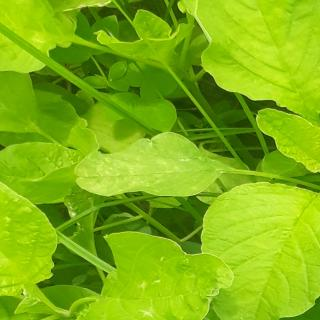karat_putih: (74, 134, 204, 199)
virus_keriting: (88, 229, 240, 320)
